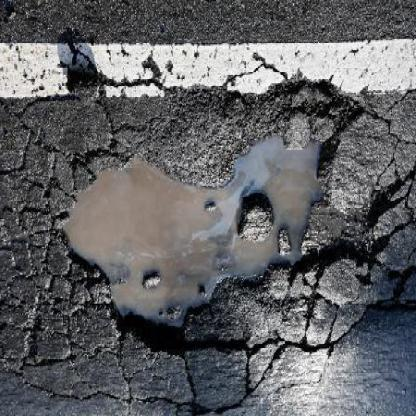pothole: (55, 83, 368, 364)
